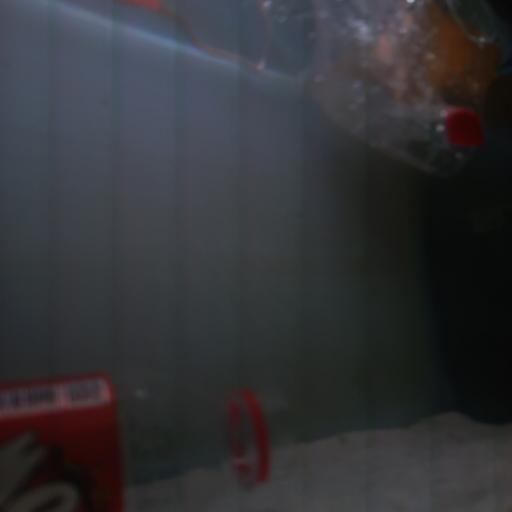bottle_cap: (444, 116, 486, 147)
mask: (356, 0, 511, 97)
plastic_bag: (224, 0, 512, 179)
plastic_bottle: (10, 377, 298, 511)
